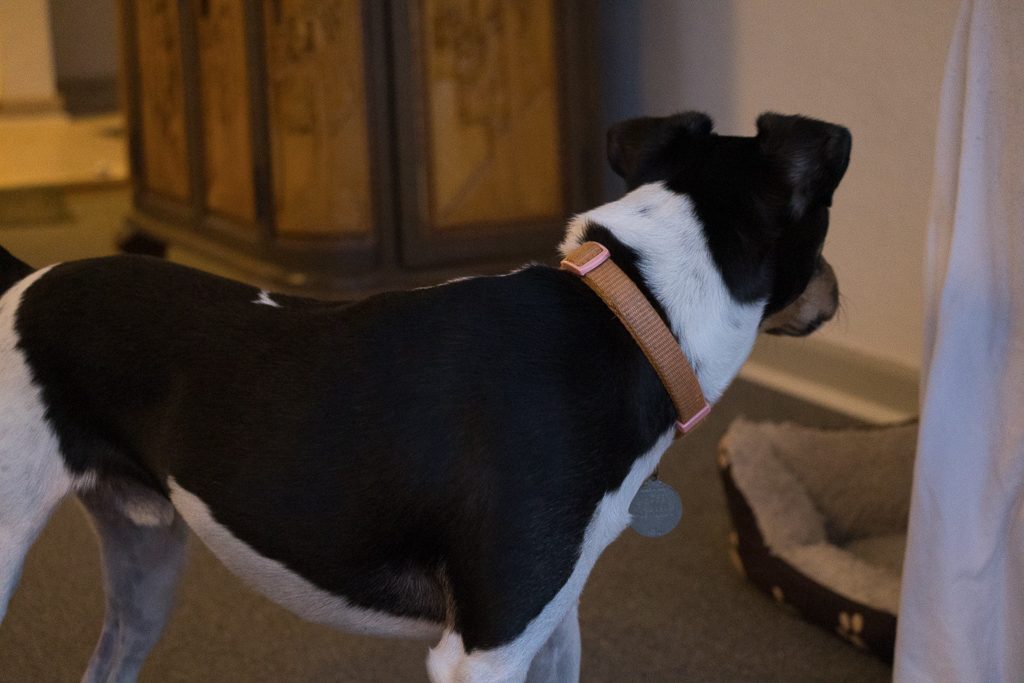Dog: (0, 99, 864, 683)
